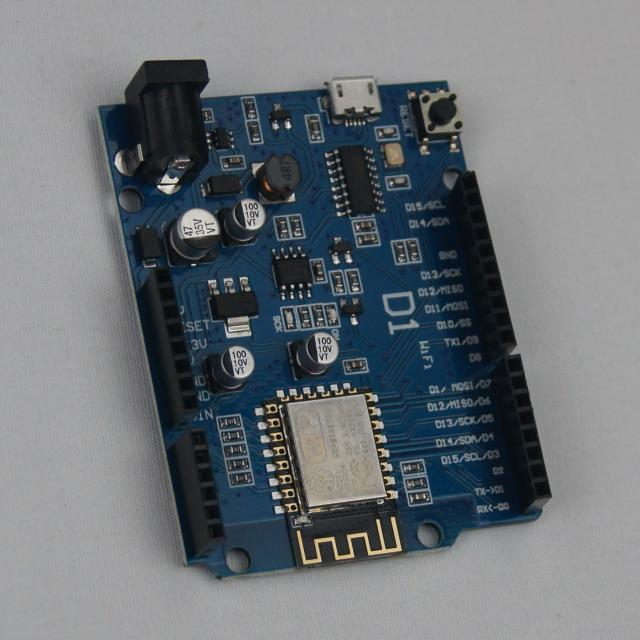Arduino Uno WiFi Shield: (100, 61, 551, 579)
